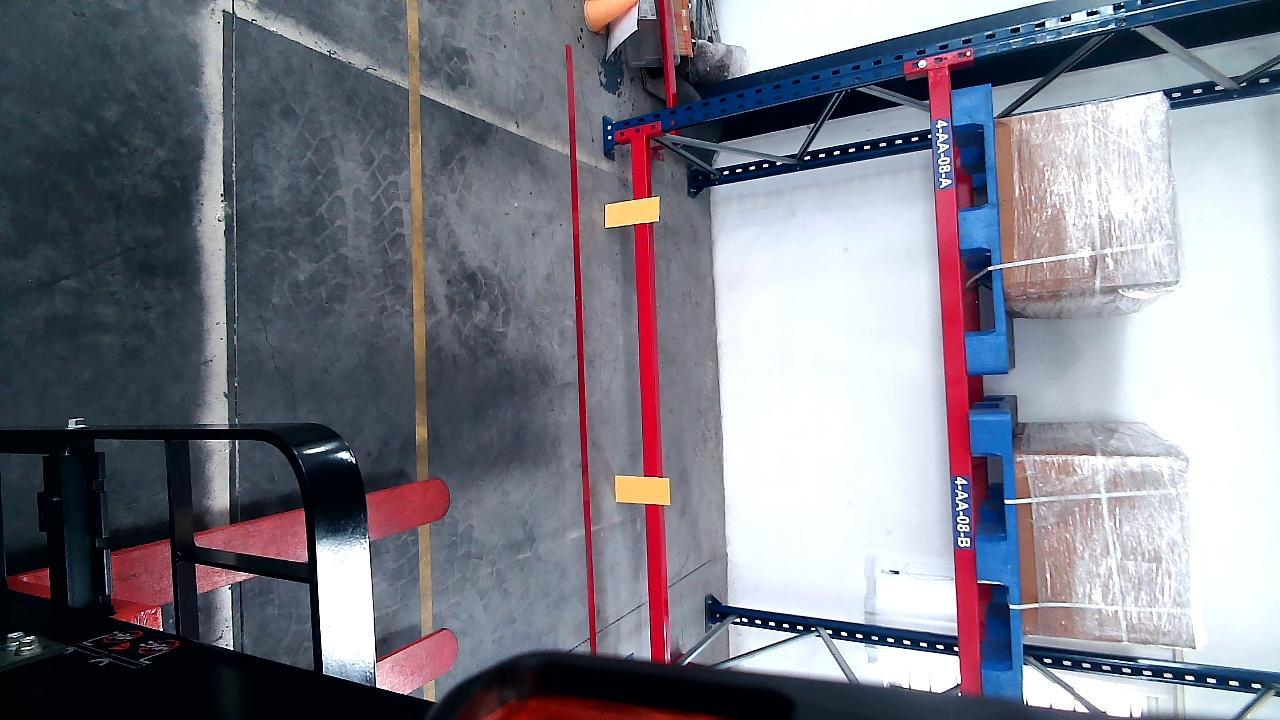red_line: (565, 46, 598, 653)
yellow_line: (407, 7, 432, 644)
